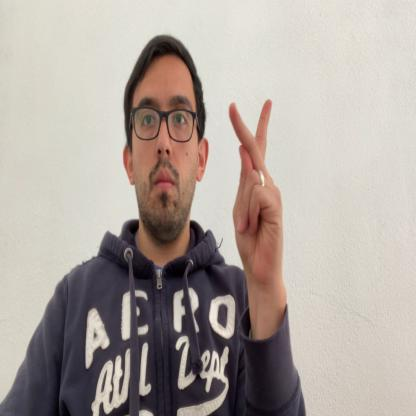P: (228, 98, 284, 264)
